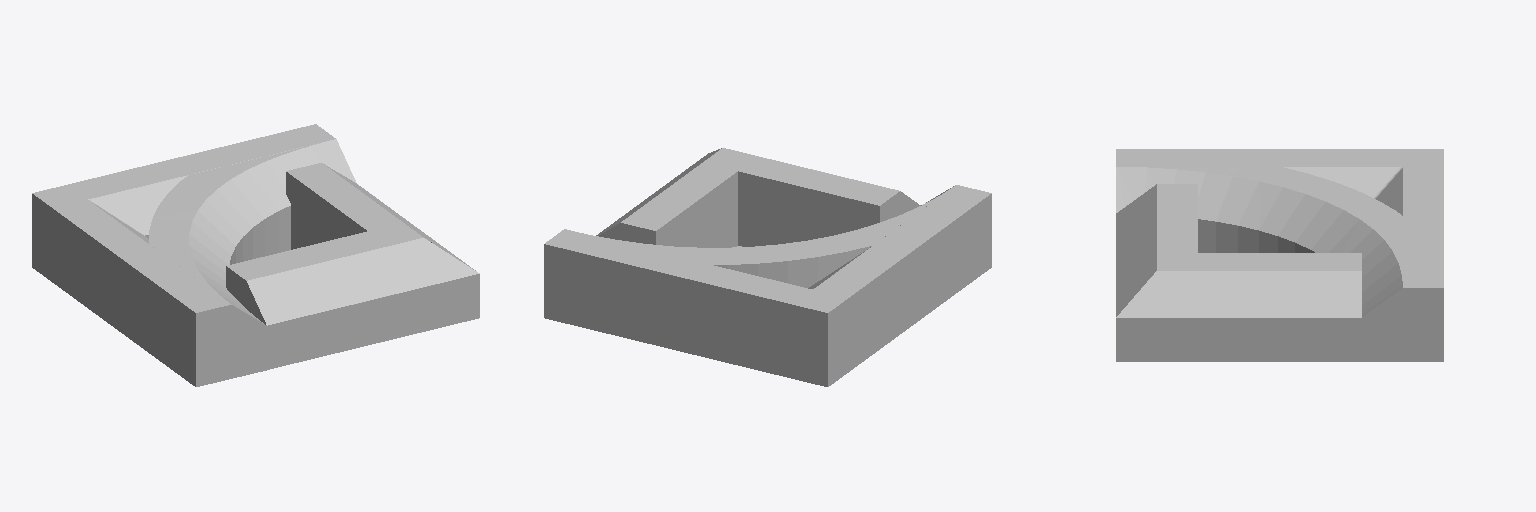
File: Inside_Corner_HP.obj
3 views of the same model, side by side, from view 1: azimuth 30°, elevation 25°; view 2: azimuth 150°, elevation 25°; view 3: azimuth 270°, elevation 25° (orthographic).
Parts seen in each view (by area): view 1: Outside_Corner_LP, Inside_Corner_HP, Wall_LP4, Inside_Wall_LP:Inside_Corner_LP, Outside_Corner_HP, Wall_LP:Wall_LP, Wall_HP; view 2: Outside_Corner_LP, Inside_Wall_LP:Inside_Corner_LP, Wall_LP4, Inside_Corner_HP, Outside_Corner_HP, Wall_LP:Wall_LP; view 3: Inside_Wall_LP:Inside_Corner_LP, Wall_LP4, Outside_Corner_LP, Inside_Corner_HP, Outside_Corner_HP, Wall_HP.
Part boxes in pixels (bbox=[...]): Outside_Corner_LP: bbox=[32, 124, 355, 386]; Inside_Corner_HP: bbox=[227, 164, 479, 366]; Wall_LP4: bbox=[149, 141, 345, 383]; Inside_Wall_LP:Inside_Corner_LP: bbox=[226, 163, 479, 369]; Outside_Corner_HP: bbox=[34, 126, 353, 378]; Wall_LP:Wall_LP: bbox=[73, 215, 230, 384]; Wall_HP: bbox=[83, 218, 260, 384]; Outside_Corner_LP: bbox=[544, 185, 991, 386]; Inside_Wall_LP:Inside_Corner_LP: bbox=[596, 148, 920, 247]; Wall_LP4: bbox=[583, 186, 953, 287]; Inside_Corner_HP: bbox=[602, 148, 877, 246]; Outside_Corner_HP: bbox=[561, 192, 987, 383]; Wall_LP:Wall_LP: bbox=[808, 185, 991, 356]; Inside_Wall_LP:Inside_Corner_LP: bbox=[1116, 184, 1361, 361]; Wall_LP4: bbox=[1117, 167, 1443, 361]; Outside_Corner_LP: bbox=[1116, 149, 1443, 361]; Inside_Corner_HP: bbox=[1116, 185, 1359, 358]; Outside_Corner_HP: bbox=[1118, 150, 1441, 355]; Wall_HP: bbox=[1118, 150, 1359, 210].
Bounding box in the file's own units: 4 × 1.01 × 4.